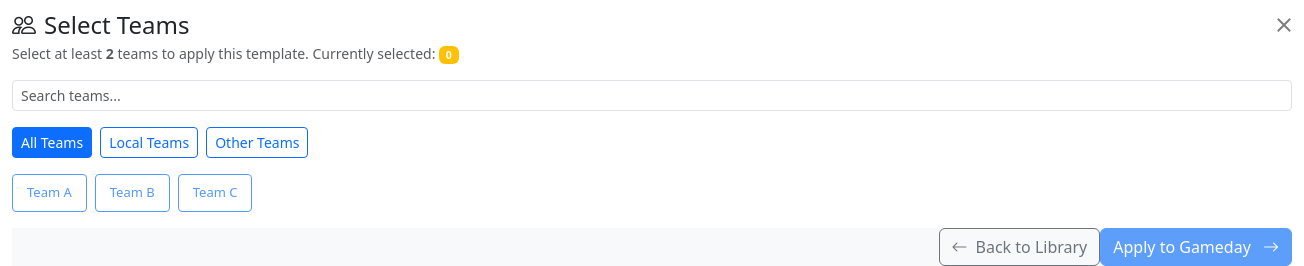
Test case: TeamPickerStep › toggles selection and disables/enables Apply button
(page scrolled)
expect the button "Apply to Gameday" is disabled: met, box [1100,228,1292,265]
Select Team A
Click the button "Team A" at (49, 193), box [12,174,87,212]
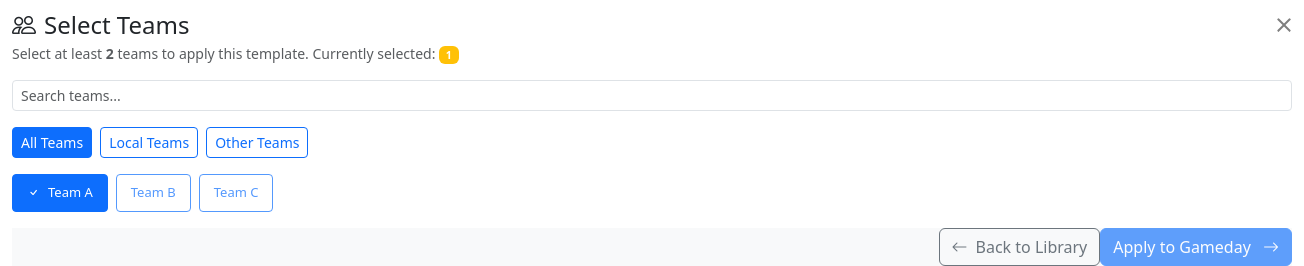
expect the button "Apply to Gameday" is disabled: met, box [1100,228,1292,265]
Select Team B
Click the button "Team B" at (153, 193), box [116,174,191,212]
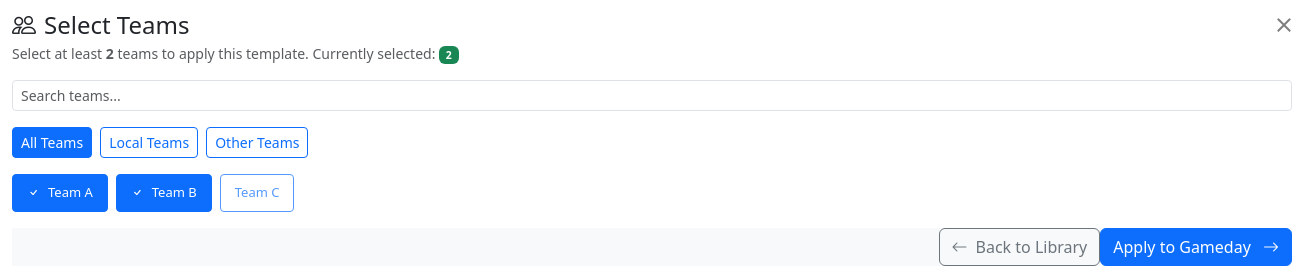
expect the button "Apply to Gameday" is enabled: met, box [1100,228,1292,265]
Deselect Team A
Click the button "Team A" at (60, 193), box [12,174,108,212]
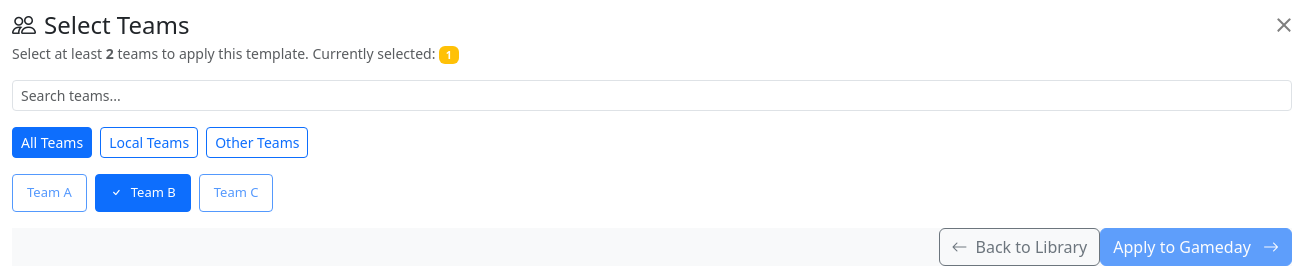
expect the button "Apply to Gameday" is disabled: met, box [1100,228,1292,265]
